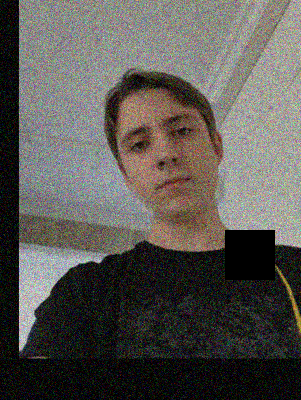without_mask: (116, 108, 217, 223)
